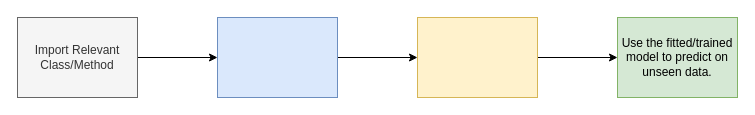
This 755x115 diagram has some shape labels left out. The shapes that lost their labels are listed below. From the top down, each one's box as (x1, y1, x2, y2) in pixels, then its label:
(216, 16, 338, 98): Initialize the model
(416, 16, 538, 98): Fit the model to your training data.
